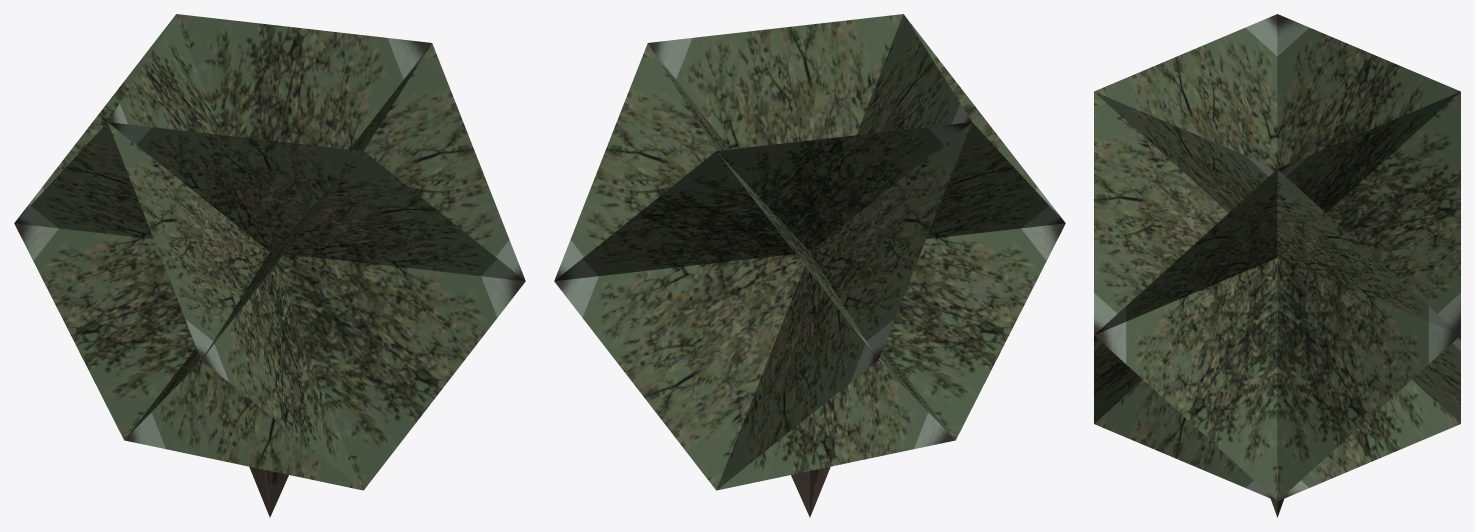
The model's file is decd_lok_mkpud_l1.fbx.
3 views of the same model, side by side, from view 1: azimuth 30°, elevation 25°; view 2: azimuth 150°, elevation 25°; view 3: azimuth 270°, elevation 25° (orthographic). The views are drawn at different scales.
Parts seen in each view (by area): view 1: mesh_node; view 2: mesh_node; view 3: mesh_node.
Boxes of the visible parts, left/top/right/bottom form: mesh_node: left=14, top=14, right=525, bottom=517; mesh_node: left=554, top=14, right=1065, bottom=517; mesh_node: left=1094, top=14, right=1460, bottom=517.
Size of the model in its own units: 2.05 by 2.63 by 2.05.
